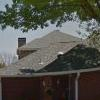Chimney: (14, 29, 30, 58)
